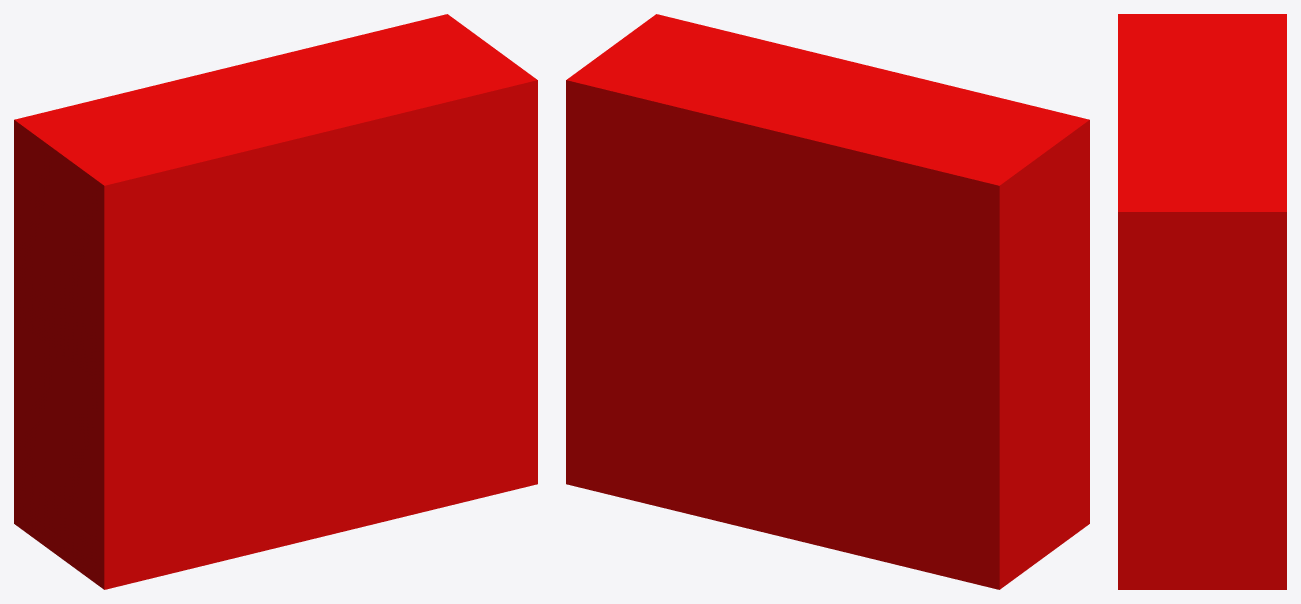
Rendered from cerv5sm_col.dae.
3 views of the same model, side by side, from view 1: azimuth 30°, elevation 25°; view 2: azimuth 150°, elevation 25°; view 3: azimuth 270°, elevation 25° (orthographic). The views are drawn at different scales.
Parts seen in each view (by area): view 1: node0; view 2: node0; view 3: node0.
Boxes of the visible parts, x1,y1,x2,y2 form: node0: (14,14,537,589); node0: (566,14,1089,589); node0: (1118,14,1286,589).
Bounding box in the file's own units: 0.0684 × 0.061 × 0.0247.
